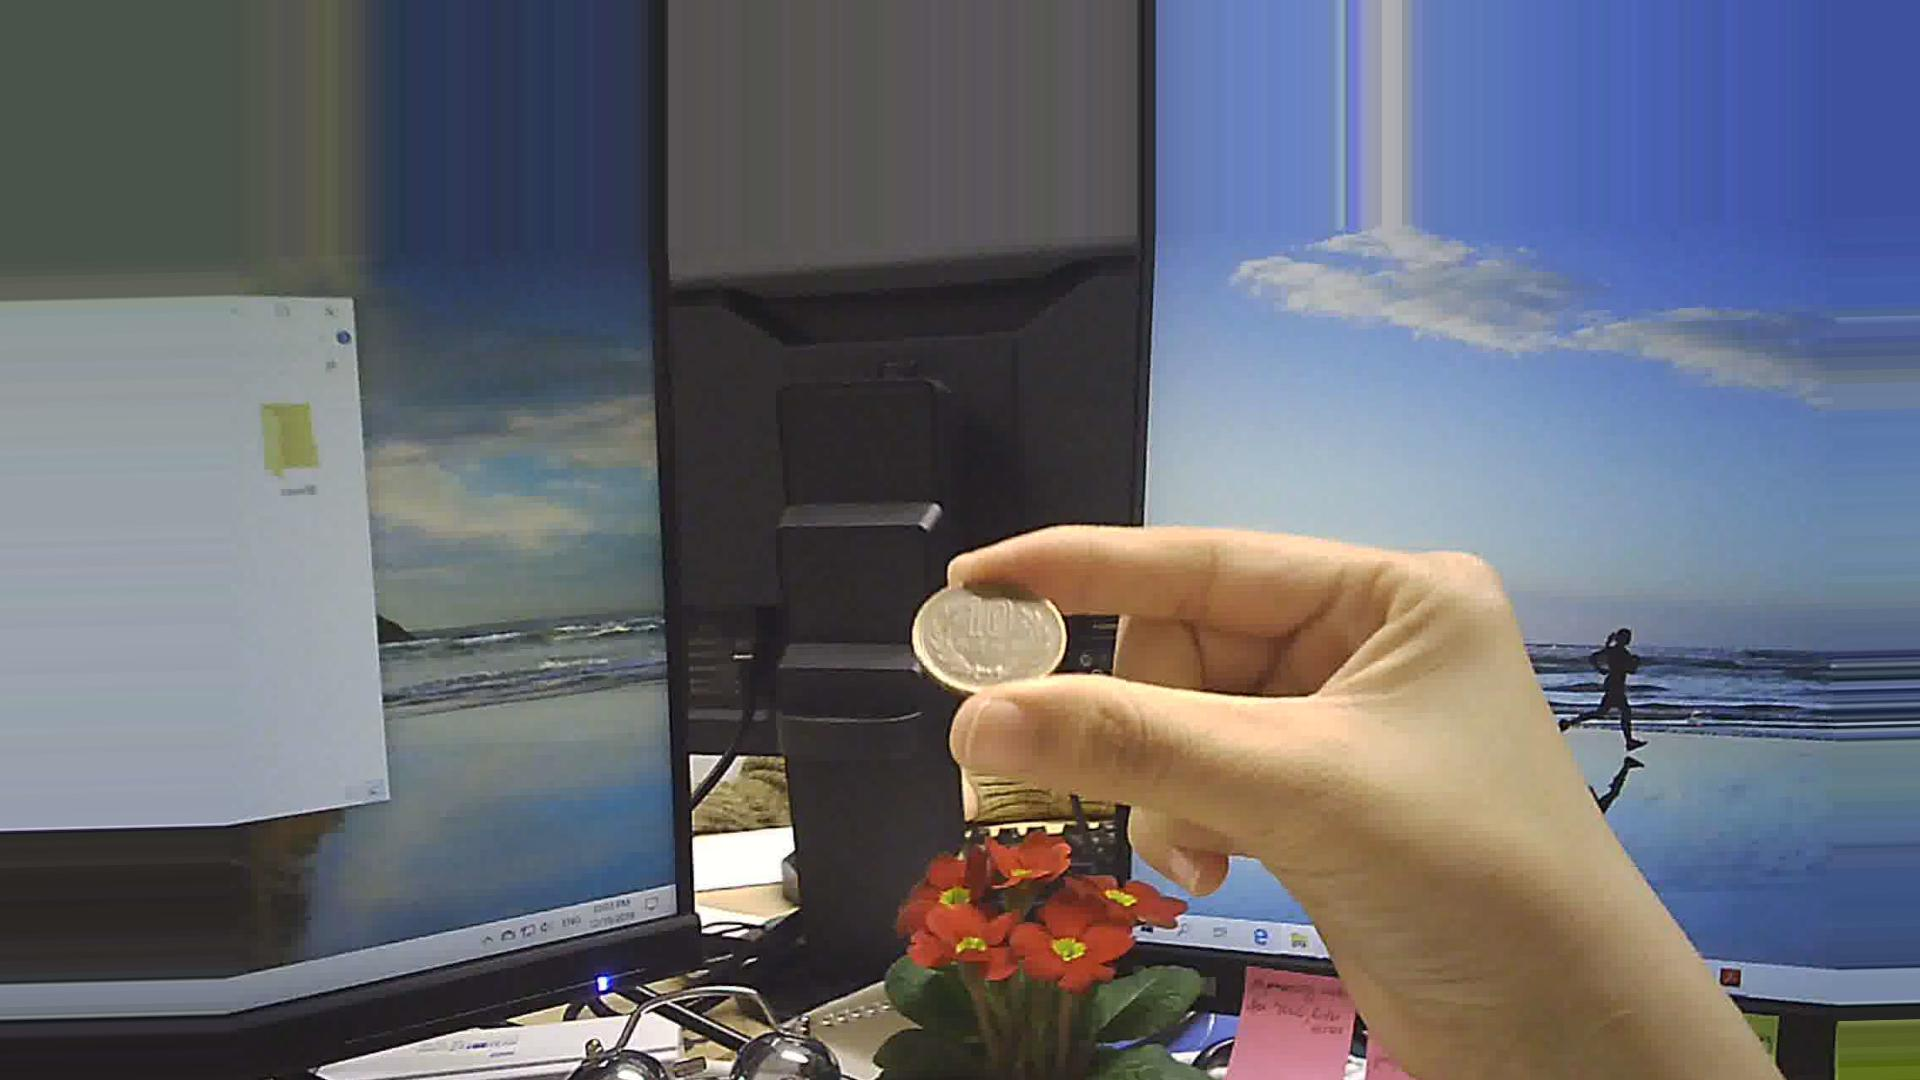10 Yen: (909, 560, 1062, 692)
